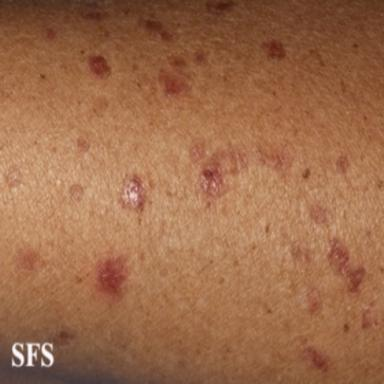Porokeratosis: (199, 147, 247, 197), (327, 237, 365, 292), (95, 254, 130, 303), (256, 145, 293, 170), (301, 343, 331, 373), (120, 176, 145, 209), (158, 70, 189, 96), (361, 296, 384, 330), (141, 17, 173, 41), (13, 247, 43, 271), (305, 284, 322, 315), (88, 55, 110, 78), (290, 242, 312, 265), (262, 40, 286, 60), (53, 327, 77, 347), (309, 204, 331, 224), (205, 0, 235, 14), (83, 8, 108, 21), (190, 141, 205, 162), (7, 167, 21, 188), (194, 48, 209, 65), (168, 54, 185, 68), (70, 185, 83, 201), (77, 136, 90, 152), (336, 156, 348, 173), (43, 27, 57, 40)
